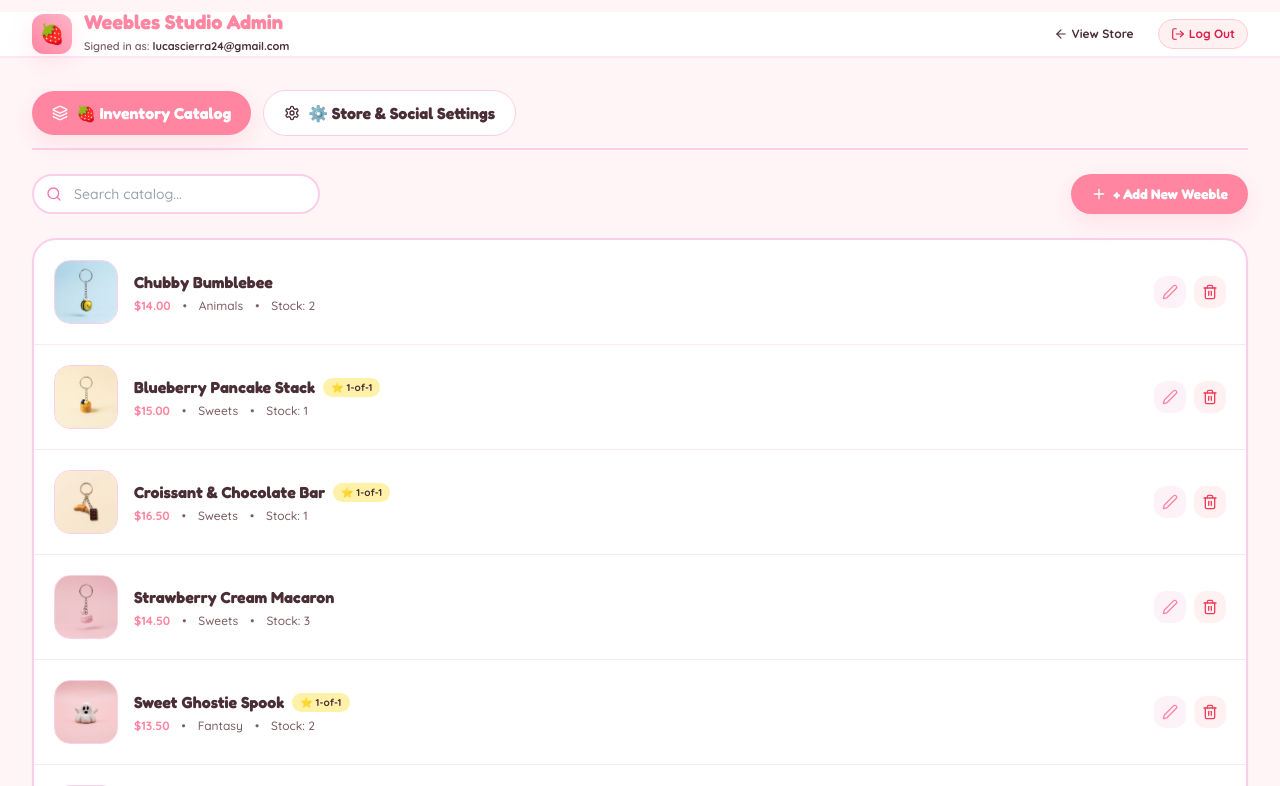
Test: AdminPortal › allows logging out and returns to login card
Click the button "Log Out": {"x": 1203, "y": 34} [1158, 19, 1248, 49]
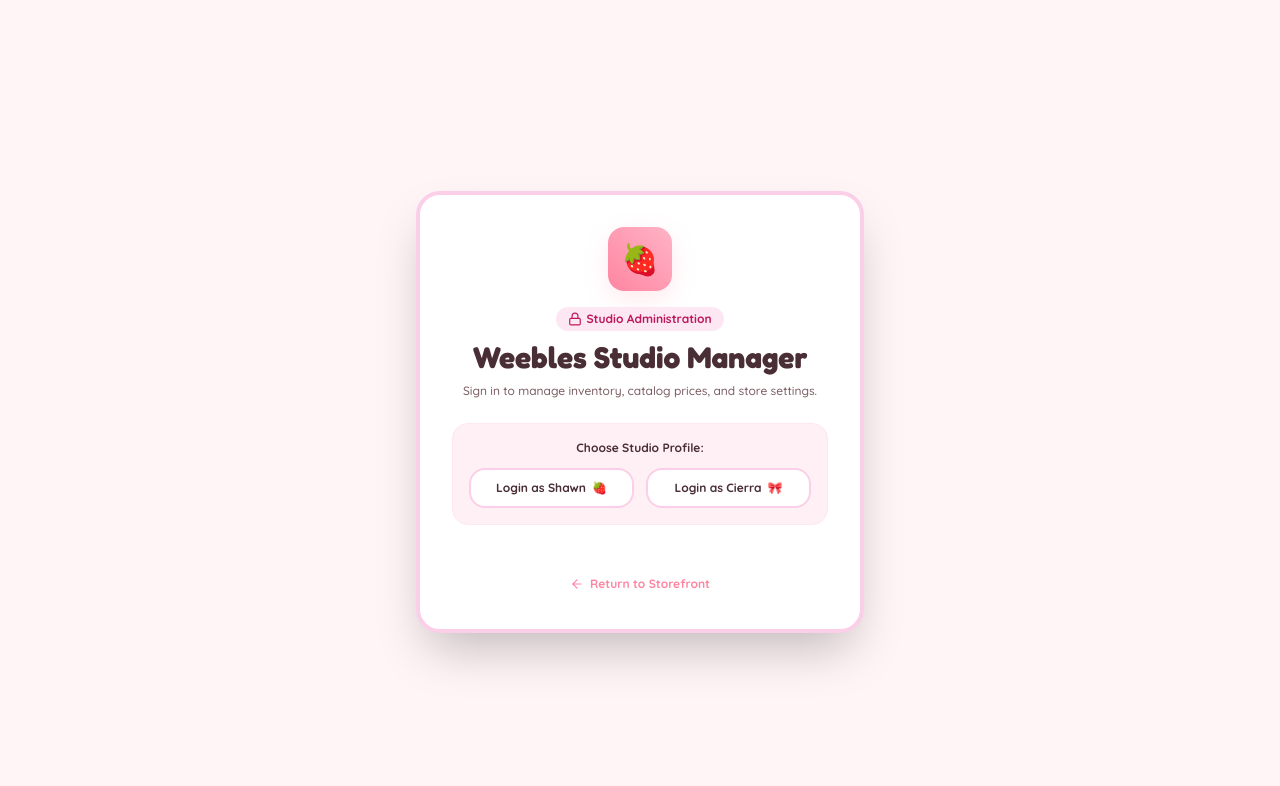
Now the heading "Weebles Studio Manager" is shown, box [452, 339, 828, 375]
Now the heading "Weebles Studio Admin" is gone
